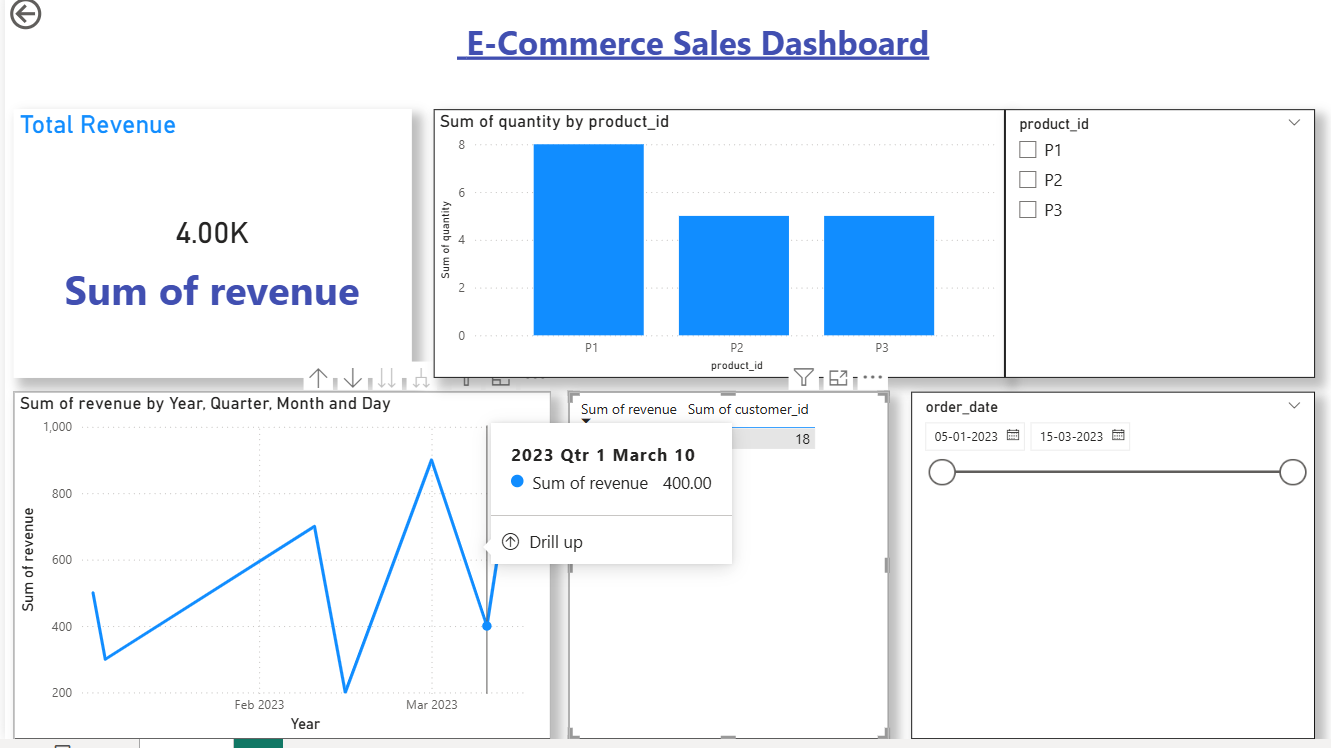

The page's visual inventory and layout, read from the dashboard file:
{"tool":"powerbi","page":{"name":"Page 1","canvas":[1280,720],"ordinal":0},"visuals":[{"type":"actionButton","box":[0,0,100,40],"z":0},{"type":"card","title":"Total Revenue","fields":{"Values":["Sum(public orders.revenue)"]},"box":[8.4,112.2,383.6,259.4],"z":1000},{"type":"lineChart","fields":{"Category":["public orders.order_date.Variation.Date Hierarchy.Year","public orders.order_date.Variation.Date Hierarchy.Quarter","public orders.order_date.Variation.Date Hierarchy.Month","public orders.order_date.Variation.Date Hierarchy.Day"],"Y":["Sum(public orders.revenue)"]},"box":[8.4,384.9,518.8,335.4],"z":2000},{"type":"clusteredColumnChart","fields":{"Category":["public orders.product_id"],"Y":["Sum(public orders.quantity)"]},"box":[413.8,112.2,551.3,259.4],"z":3000},{"type":"tableEx","fields":{"Values":["Sum(public orders.revenue)","Sum(public orders.customer_id)"]},"box":[544.1,384.9,308.8,335.4],"z":4000},{"type":"slicer","fields":{"Values":["public orders.product_id"]},"box":[965.2,112.2,299.2,259.4],"z":4001},{"type":"slicer","fields":{"Values":["public orders.order_date"]},"box":[874.7,384.9,389.7,335.4],"z":4002},{"type":"textbox","box":[213.5,20.5,901.2,53.1],"z":4003}]}

Visuals, with their boxes in screenshot pixels (x1, y1, x2, y2), scaled from the page's 1280x720 canvas onto the 1331x748 screenshot:
actionButton: BBox(0, 0, 104, 42)
"Total Revenue" card: BBox(9, 117, 408, 386)
lineChart - public orders.order_date.Variation.Date Hierarchy.Year x public orders.order_date.Variation.Date Hierarchy.Quarter: BBox(9, 400, 548, 747)
clusteredColumnChart - public orders.product_id x Sum(public orders.quantity): BBox(430, 117, 1004, 386)
tableEx - Sum(public orders.revenue) x Sum(public orders.customer_id): BBox(566, 400, 887, 747)
slicer - public orders.product_id: BBox(1004, 117, 1315, 386)
slicer - public orders.order_date: BBox(910, 400, 1315, 747)
textbox: BBox(222, 21, 1159, 76)
